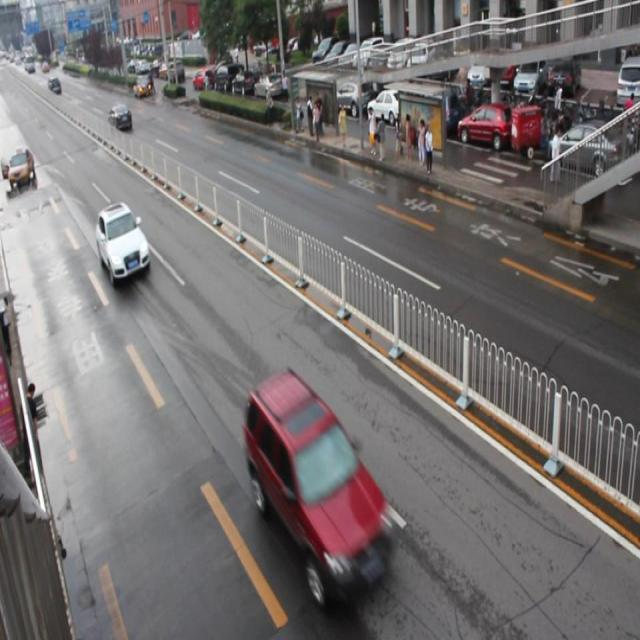car: (244, 369, 394, 603), (95, 204, 149, 282)
